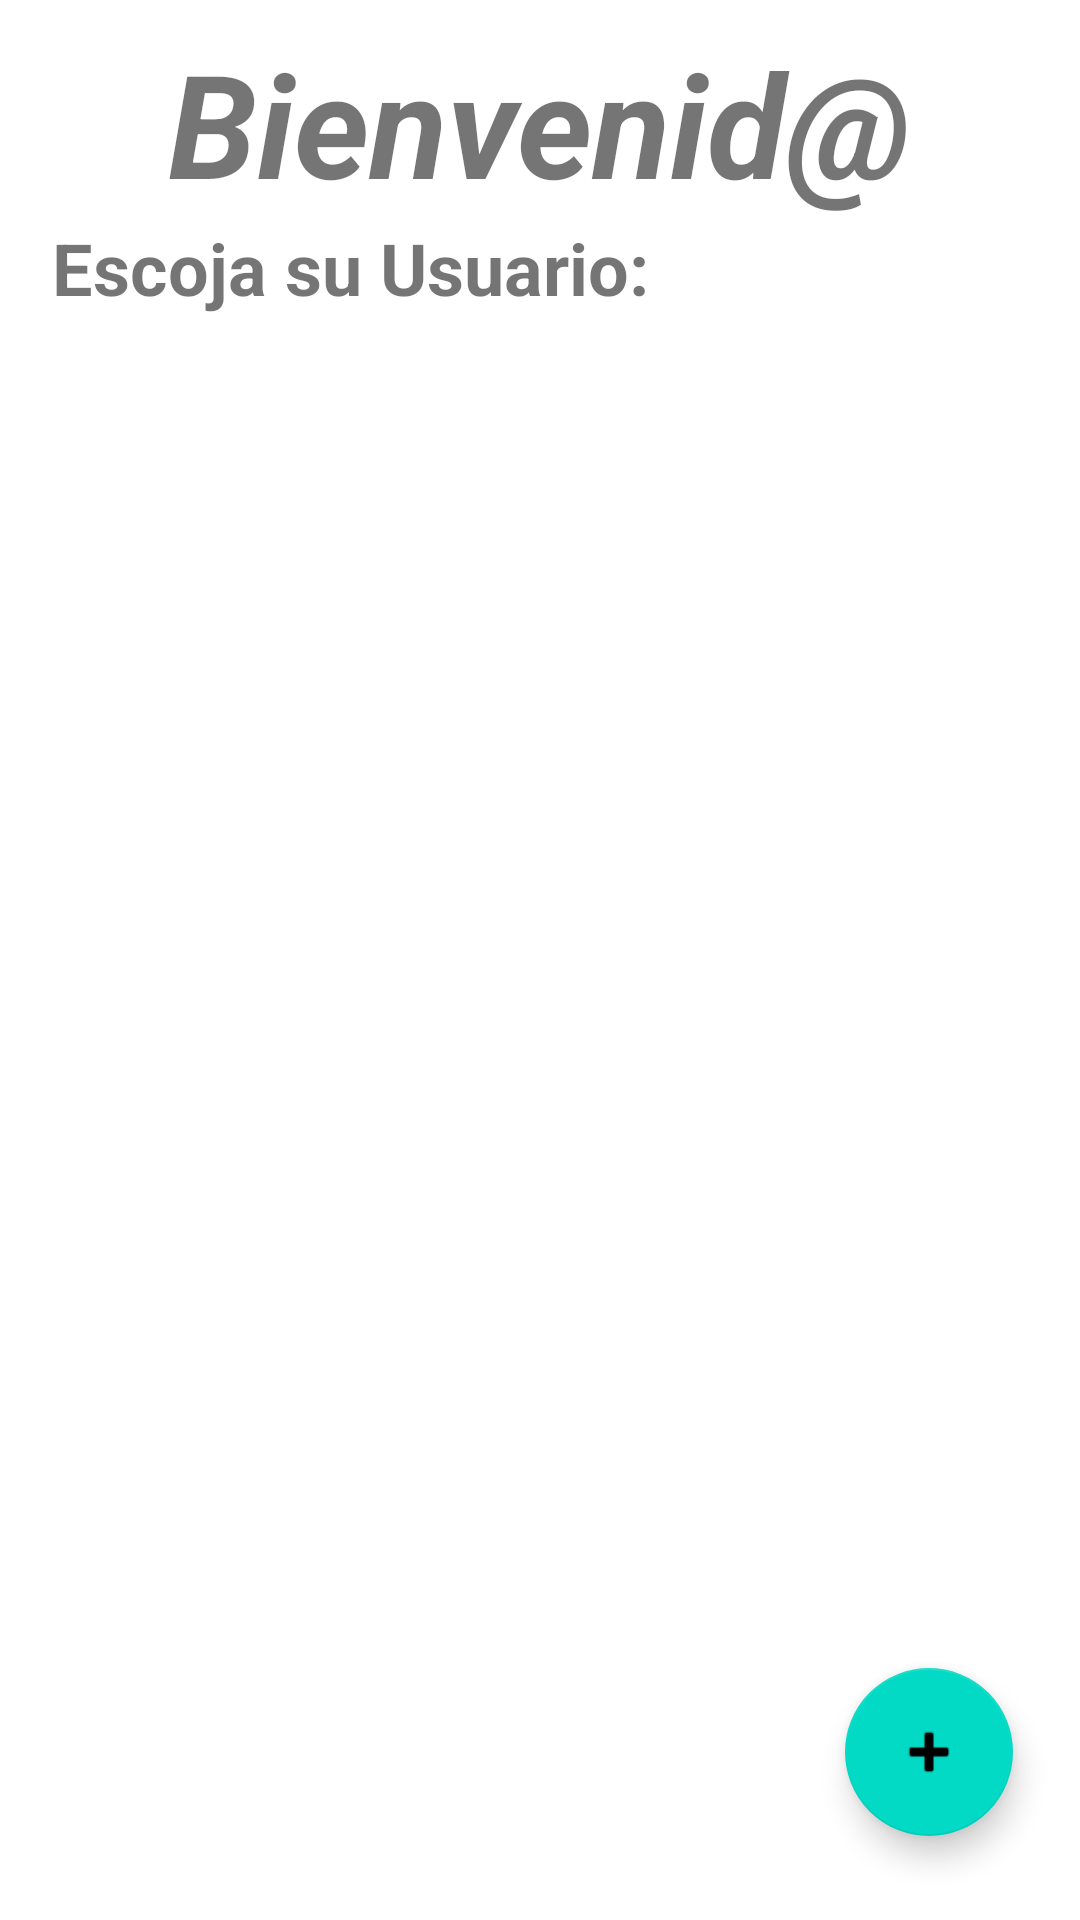

Screen size 1080 × 1920. Icon name, then its center in pixels as point (x, y):
add: point (929, 1752)
